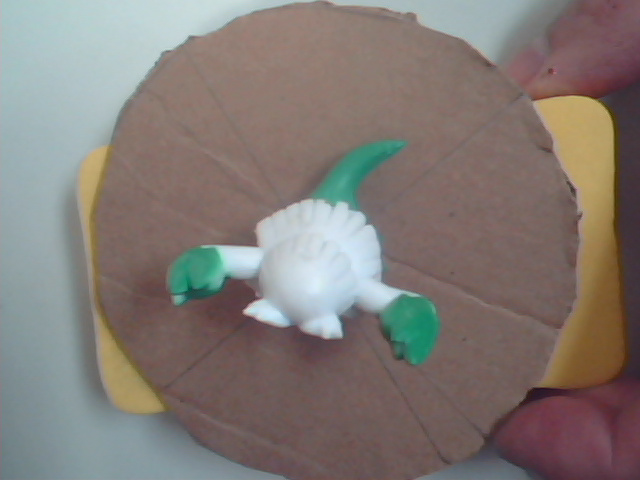abomasnow: (157, 105, 479, 402)
